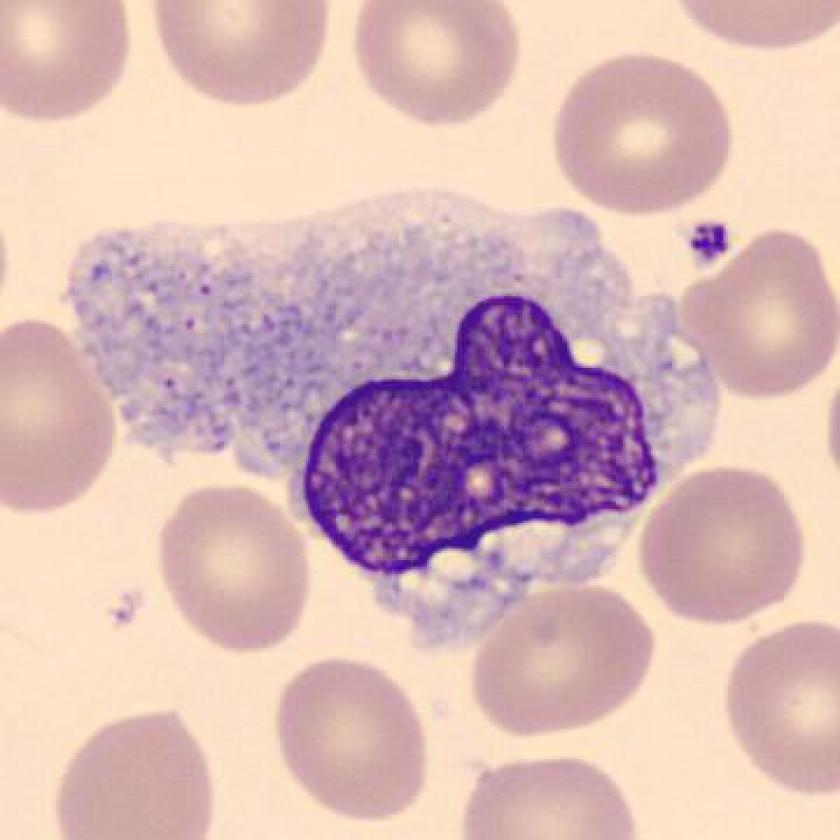monocyte: (48, 177, 724, 663)
